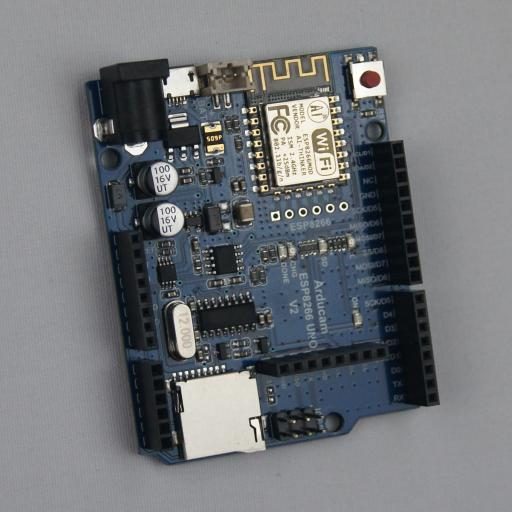Arduino Uno Camera Shield: (76, 46, 440, 466)
